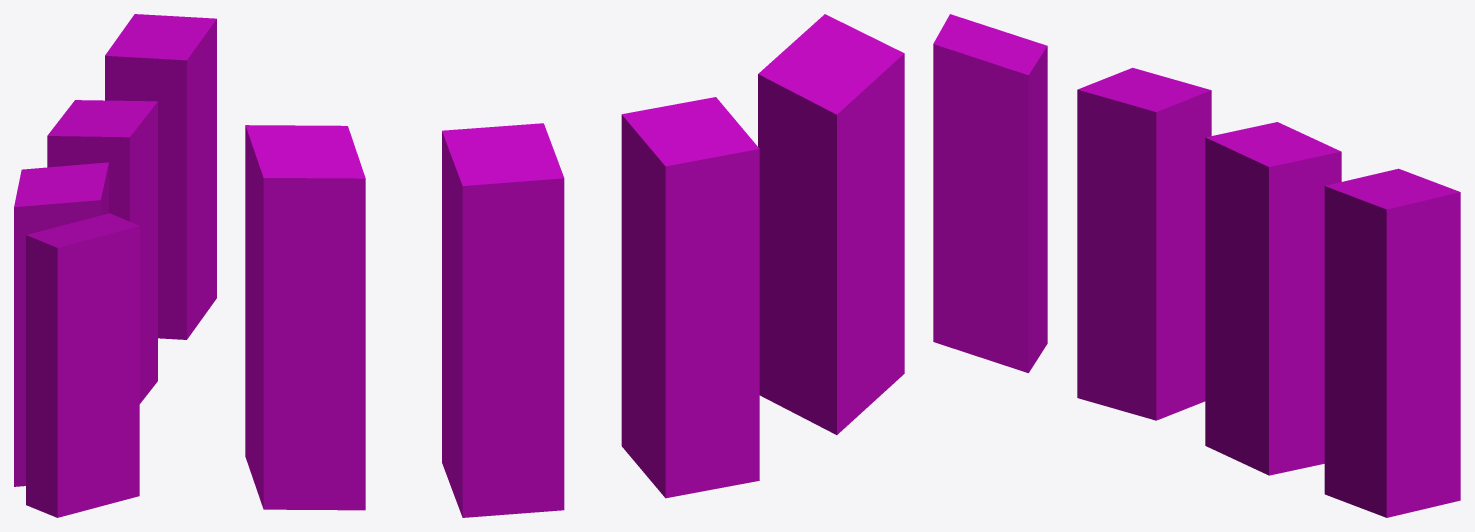
File: M09_Z01_TeethBlock05.glb
3 views of the same model, side by side, from view 1: azimuth 30°, elevation 25°; view 2: azimuth 150°, elevation 25°; view 3: azimuth 270°, elevation 25° (orthographic). The views are drawn at different scales.
Visible parts, largest first — view 1: M09_Z01_TEETHBLOCK05; view 2: M09_Z01_TEETHBLOCK05; view 3: M09_Z01_TEETHBLOCK05.
Part boxes in pixels (bbox=[...]): M09_Z01_TEETHBLOCK05: bbox=[14, 14, 216, 517]; M09_Z01_TEETHBLOCK05: bbox=[245, 14, 904, 517]; M09_Z01_TEETHBLOCK05: bbox=[933, 14, 1460, 517].
Bounding box in the file's own units: 10.61 × 9.06 × 12.29.
